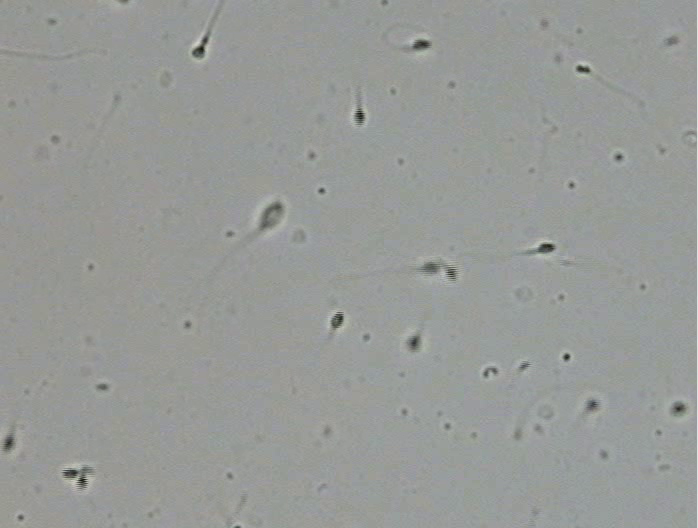S: (257, 200, 285, 231), (330, 311, 344, 329), (445, 264, 459, 282), (353, 108, 366, 127), (2, 434, 15, 452), (536, 242, 555, 254), (407, 335, 421, 351), (412, 39, 432, 50), (61, 468, 79, 480), (421, 262, 439, 274), (75, 475, 89, 490), (192, 45, 206, 59), (672, 402, 686, 415), (586, 399, 599, 412), (576, 64, 591, 74)
